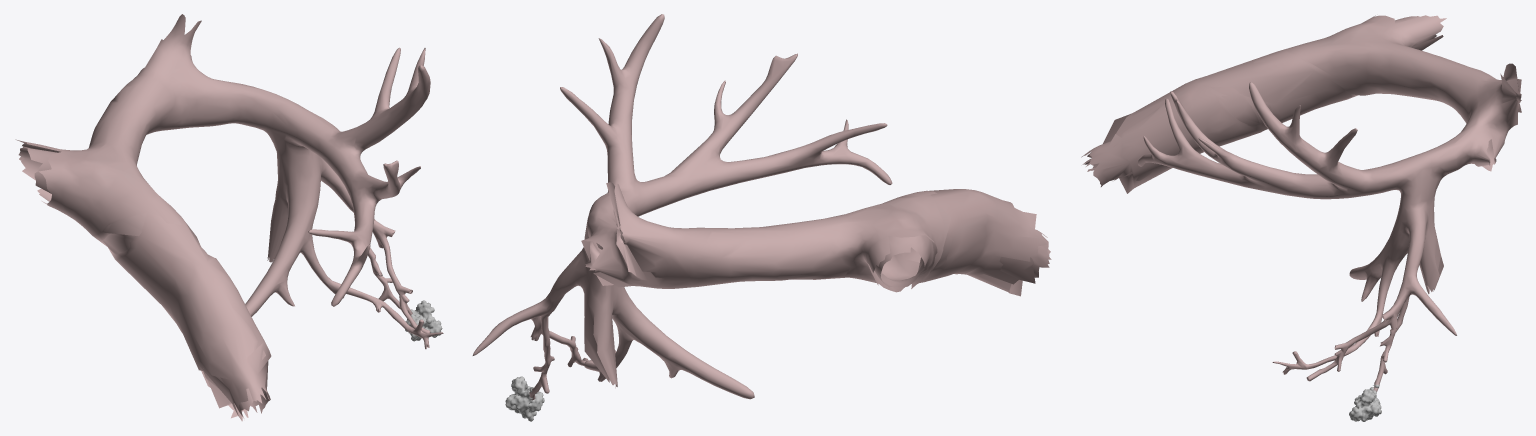
Rendered from trachia.fbx.
3 views of the same model, side by side, from view 1: azimuth 30°, elevation 25°; view 2: azimuth 150°, elevation 25°; view 3: azimuth 270°, elevation 25° (orthographic). The views are drawn at different scales.
Parts seen in each view (by area): view 1: bronchi1, PM3D_Sphere3D2; view 2: bronchi1, PM3D_Sphere3D2; view 3: bronchi1, PM3D_Sphere3D2.
Boxes of the visible parts, x1,y1,x2,y2 form: bronchi1: (15, 14, 443, 421); PM3D_Sphere3D2: (405, 300, 442, 341); bronchi1: (472, 14, 1051, 400); PM3D_Sphere3D2: (505, 376, 544, 421); bronchi1: (1081, 15, 1521, 391); PM3D_Sphere3D2: (1349, 384, 1381, 421).
Size of the model in its own units: 113 by 92.72 by 119.
